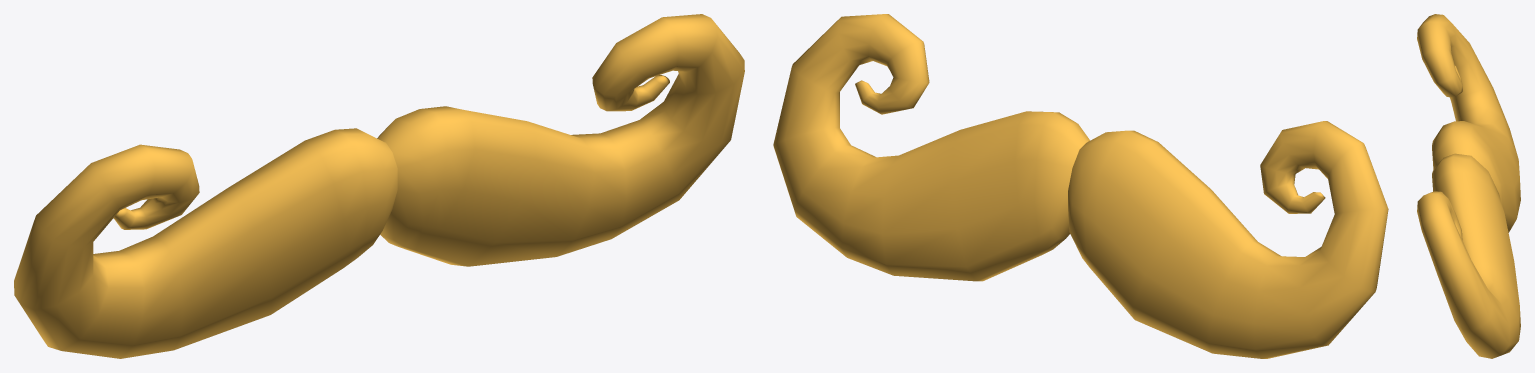
Rendered from Beard_16_05.fbx.
3 views of the same model, side by side, from view 1: azimuth 30°, elevation 25°; view 2: azimuth 150°, elevation 25°; view 3: azimuth 270°, elevation 25° (orthographic). The views are drawn at different scales.
Parts seen in each view (by area): view 1: Beard_16_05; view 2: Beard_16_05; view 3: Beard_16_05.
Part boxes in pixels (x1,y1,x2,y2): Beard_16_05: [14, 14, 744, 358]; Beard_16_05: [773, 14, 1388, 358]; Beard_16_05: [1417, 14, 1520, 358].
Size of the model in its own units: 14.58 by 4.99 by 2.74.
